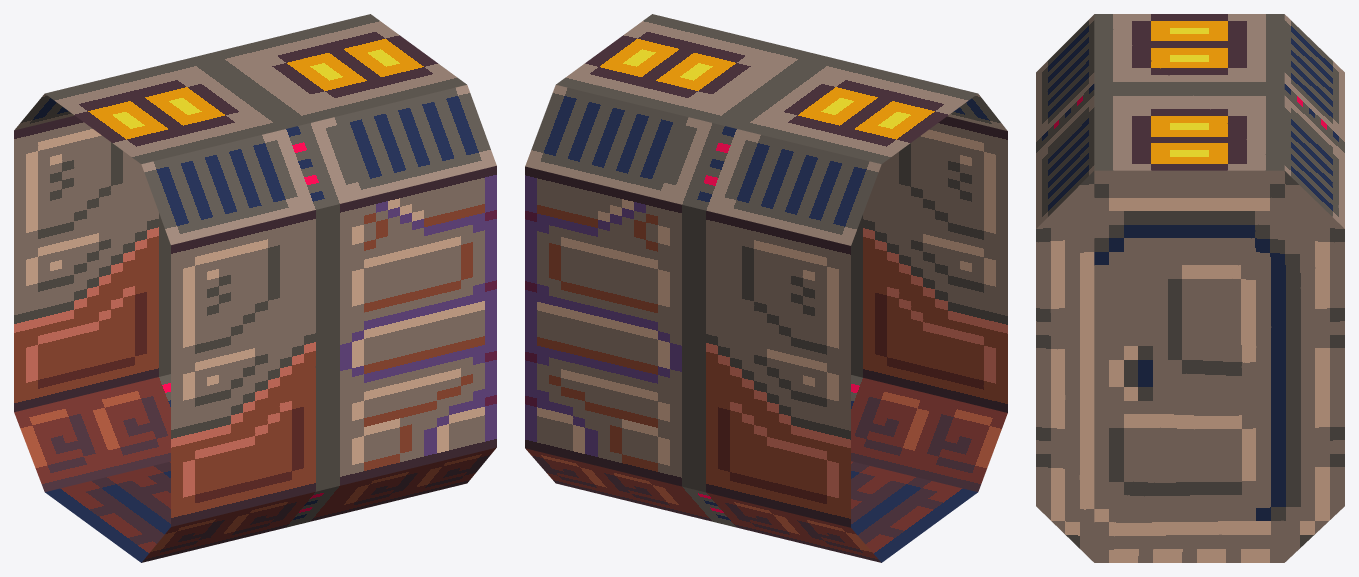
File: Door.fbx
3 renders of one model, left to right at view 1: azimuth 30°, elevation 25°; view 2: azimuth 150°, elevation 25°; view 3: azimuth 270°, elevation 25°, orthographic.
Visible parts, largest first — view 1: Door; view 2: Door; view 3: Door.
Part boxes in pixels (<box>): Door: <box>14,14,496,562</box>; Door: <box>525,14,1007,562</box>; Door: <box>1036,14,1344,562</box>.
Bounding box in the file's own units: 262 × 306 × 218.
